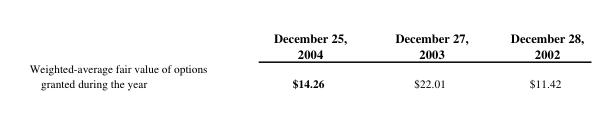table: (28, 29, 583, 90)
table column: (28, 29, 209, 90), (209, 29, 370, 90), (370, 29, 488, 90), (488, 29, 583, 90)
table column header: (28, 29, 583, 61)
table projected row header: (28, 61, 583, 75)
table row: (28, 29, 583, 61), (28, 75, 583, 90), (28, 61, 583, 75)
